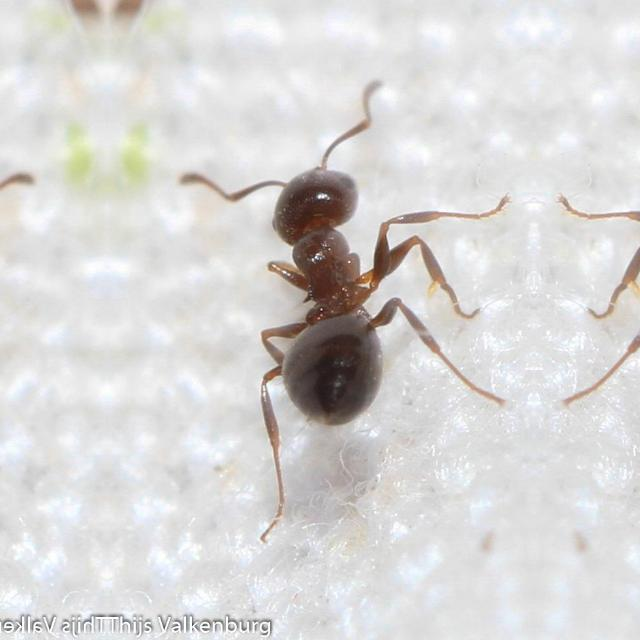Crematogaster: (242, 132, 426, 436)
